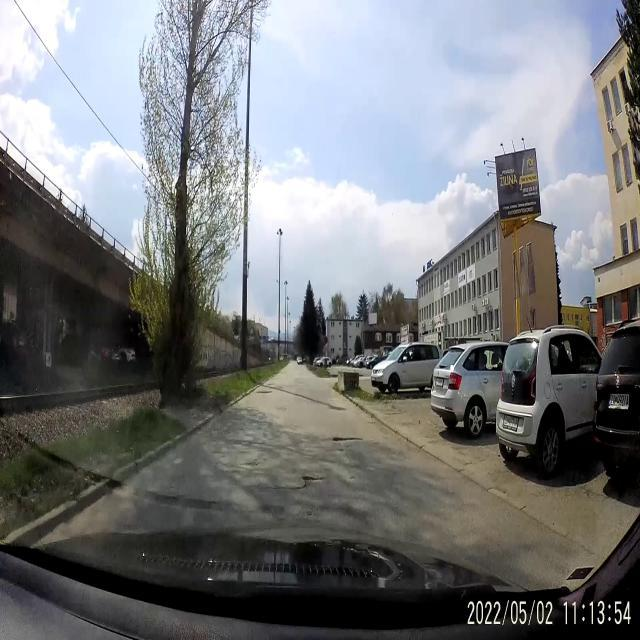Pothole: (328, 428, 368, 452), (294, 467, 324, 495)
